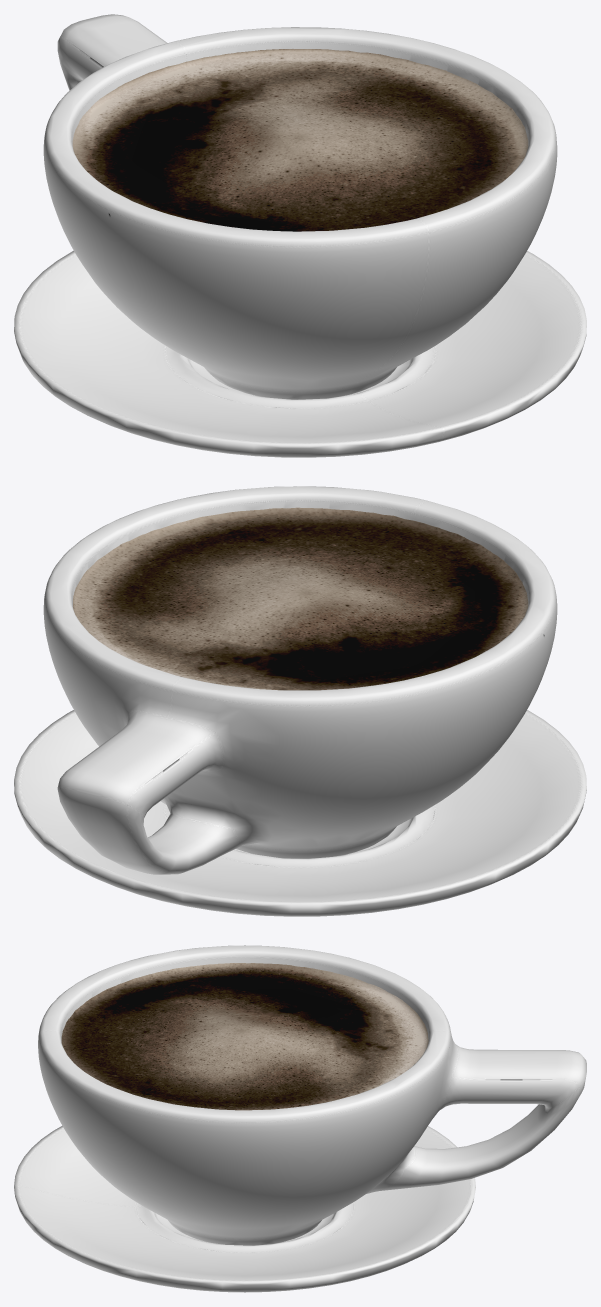
3 renders of one model, top to bottom at view 1: azimuth 30°, elevation 25°; view 2: azimuth 150°, elevation 25°; view 3: azimuth 270°, elevation 25°, orthographic. The views are drawn at different scales.
Visible parts, largest first — view 1: Hrnek.001_0, Coffee.001_1, Podsalek.001_2; view 2: Hrnek.001_0, Coffee.001_1, Podsalek.001_2; view 3: Hrnek.001_0, Coffee.001_1, Podsalek.001_2.
Part boxes in pixels (x1,y1,x2,y2): Hrnek.001_0: [43, 14, 557, 399]; Coffee.001_1: [72, 49, 528, 231]; Podsalek.001_2: [14, 250, 586, 457]; Hrnek.001_0: [43, 486, 557, 874]; Coffee.001_1: [73, 507, 528, 690]; Podsalek.001_2: [14, 710, 586, 916]; Hrnek.001_0: [38, 945, 586, 1245]; Coffee.001_1: [61, 963, 428, 1110]; Podsalek.001_2: [14, 1126, 475, 1292].
Bounding box in the file's own units: 0.1048 × 0.0508 × 0.13.
Materials: 3 (3 with a texture image).
